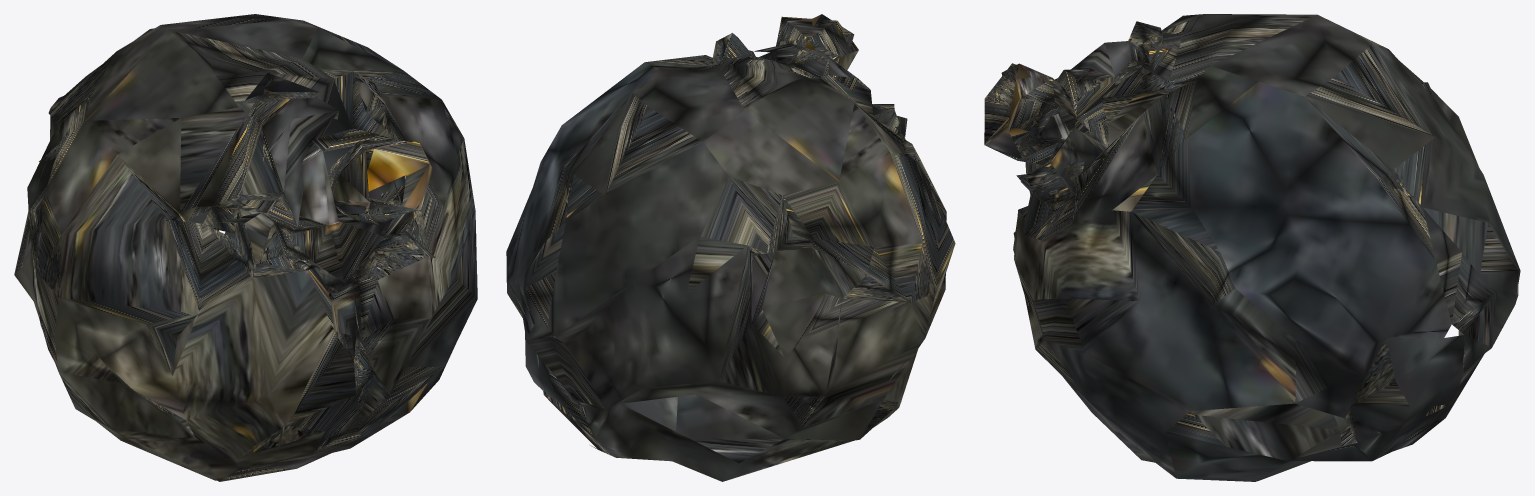
Rendered from na-rock-a.glb.
3 views of the same model, side by side, from view 1: azimuth 30°, elevation 25°; view 2: azimuth 150°, elevation 25°; view 3: azimuth 270°, elevation 25° (orthographic). The views are drawn at different scales.
Parts seen in each view (by area): view 1: geometry_0; view 2: geometry_0; view 3: geometry_0.
Part boxes in pixels (x1=…): geometry_0: x1=14, y1=14, x2=477, y2=481; geometry_0: x1=506, y1=14, x2=955, y2=481; geometry_0: x1=984, y1=14, x2=1520, y2=481.
Size of the model in its own units: 0.7969 by 0.7882 by 0.8898.
Materials: 1 (1 with a texture image).
